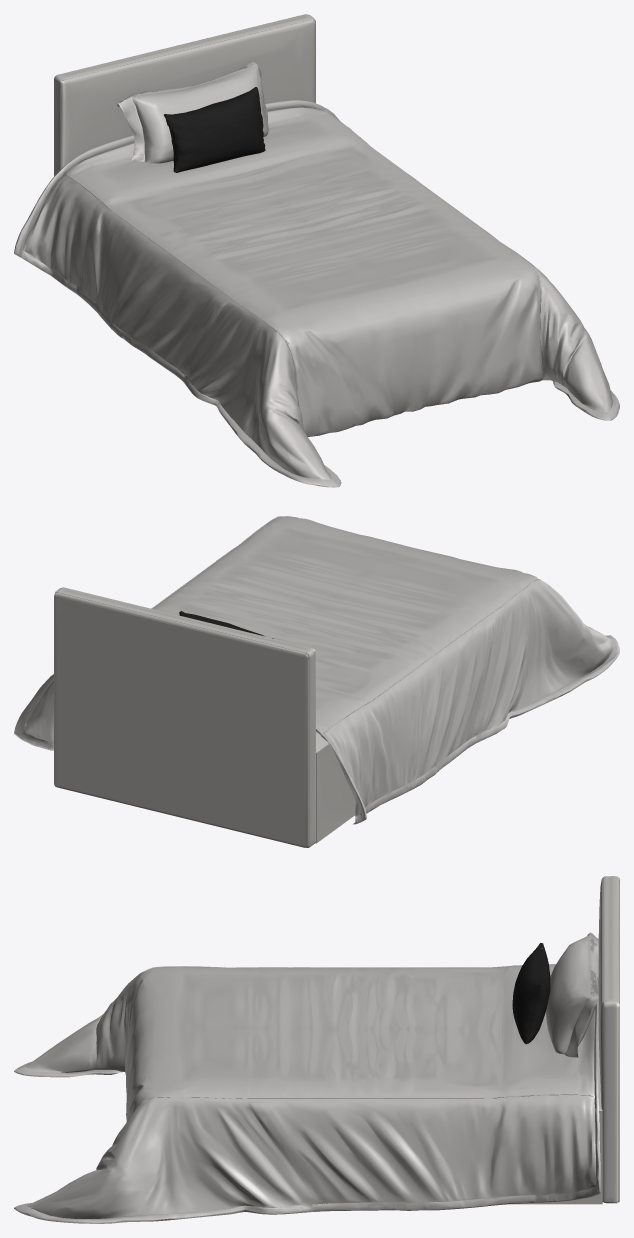
The model's file is raw_model.obj.
The picture shows the model from 3 angles, top to bottom: view 1: azimuth 30°, elevation 25°; view 2: azimuth 150°, elevation 25°; view 3: azimuth 270°, elevation 25°; orthographic projection. The views are drawn at different scales.
Parts seen in each view (by area): view 1: solid_002, solid_001, solid_003; view 2: solid_002, solid_001; view 3: solid_002, solid_001, solid_003.
Part boxes in pixels (x1,y1,x2,y2): solid_002: [14, 62, 619, 487]; solid_001: [54, 14, 315, 176]; solid_003: [164, 87, 265, 172]; solid_002: [14, 516, 619, 824]; solid_001: [54, 587, 354, 847]; solid_002: [14, 932, 600, 1223]; solid_001: [510, 876, 619, 1204]; solid_003: [512, 943, 550, 1044].
Bounding box in the file's own units: 1.83 × 0.9727 × 2.65.
1 material, 1 textured.
